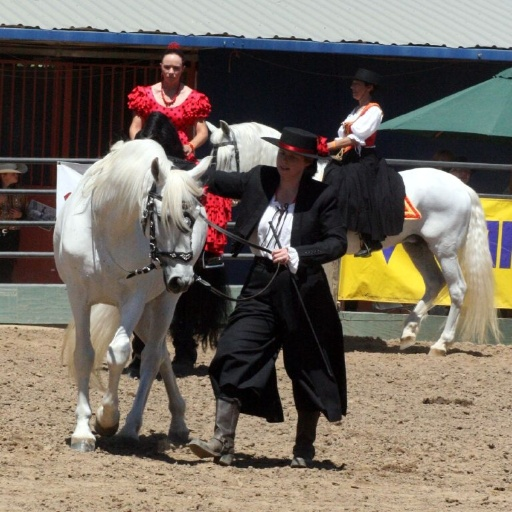hand: (271, 246, 289, 265), (182, 144, 192, 158)
